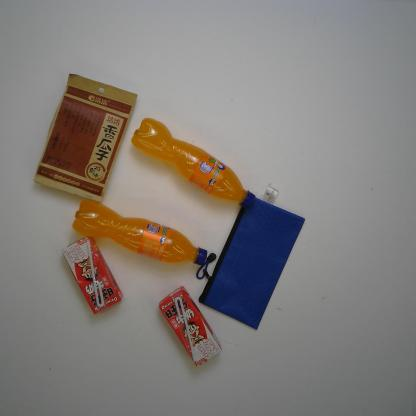Dried Food: (33, 70, 139, 208)
Drink: (130, 116, 257, 213), (69, 194, 209, 270)
Milk: (158, 284, 222, 370), (61, 232, 124, 318)
Stationery: (191, 182, 309, 331)
